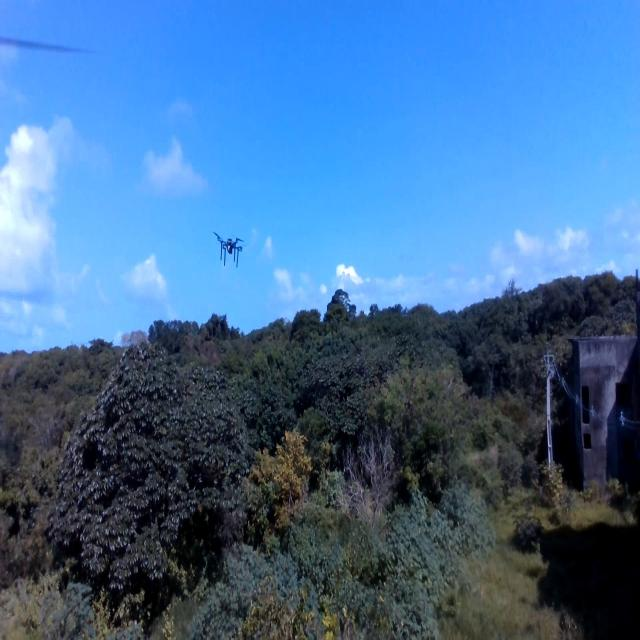-uav-: (209, 216, 248, 271)
